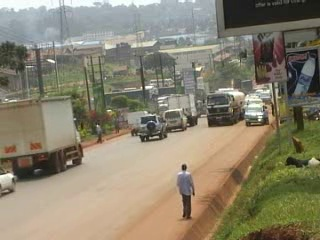Car: (134, 112, 168, 144), (0, 163, 17, 198)
